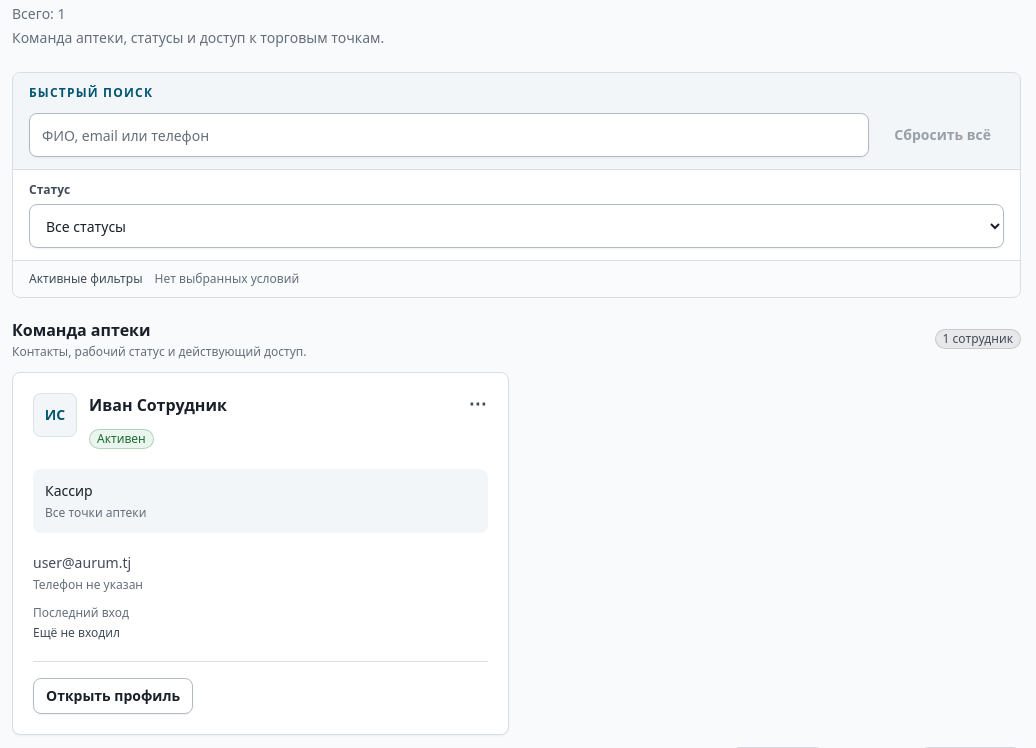
Test: UsersPage › does not derive update, suspend, offboard or assignment actions from users.view
This screenshot has width=1036, height=748.
Check: the heading "Иван Сотрудник" is shown, box x1=89 y1=393 x2=227 y2=417
Click the button named "Действия для Иван Сотрудник" at coordinates (478, 403), box x1=460 y1=385 x2=496 y2=421
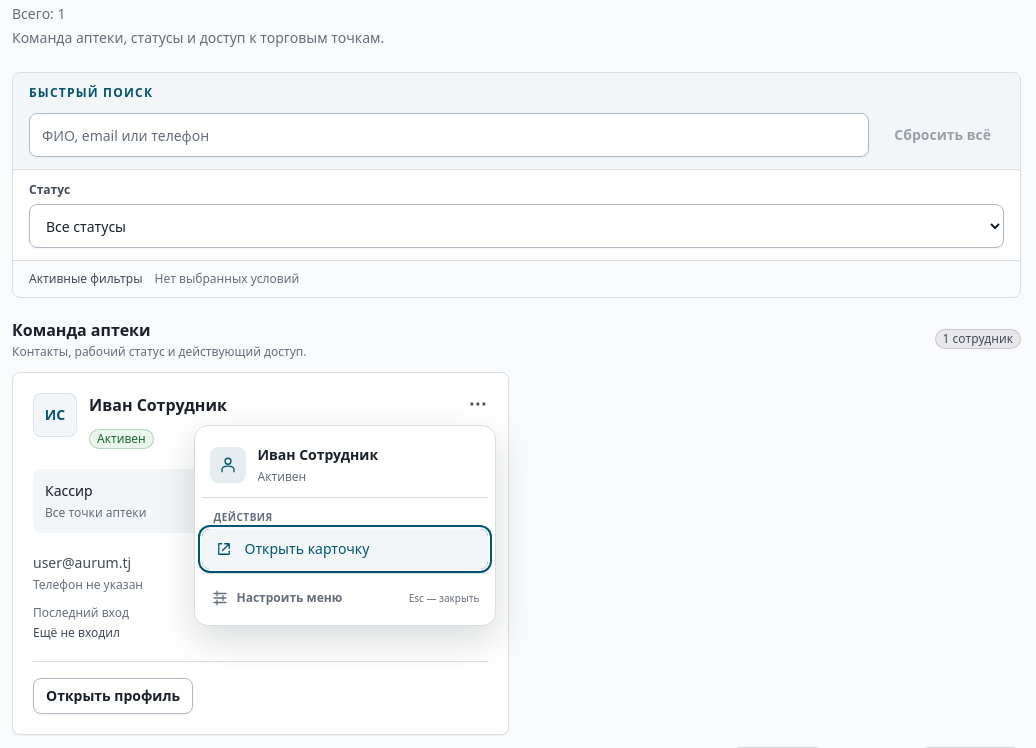
Check: the menu item "Открыть карточку" is shown, box x1=202 y1=529 x2=488 y2=569
